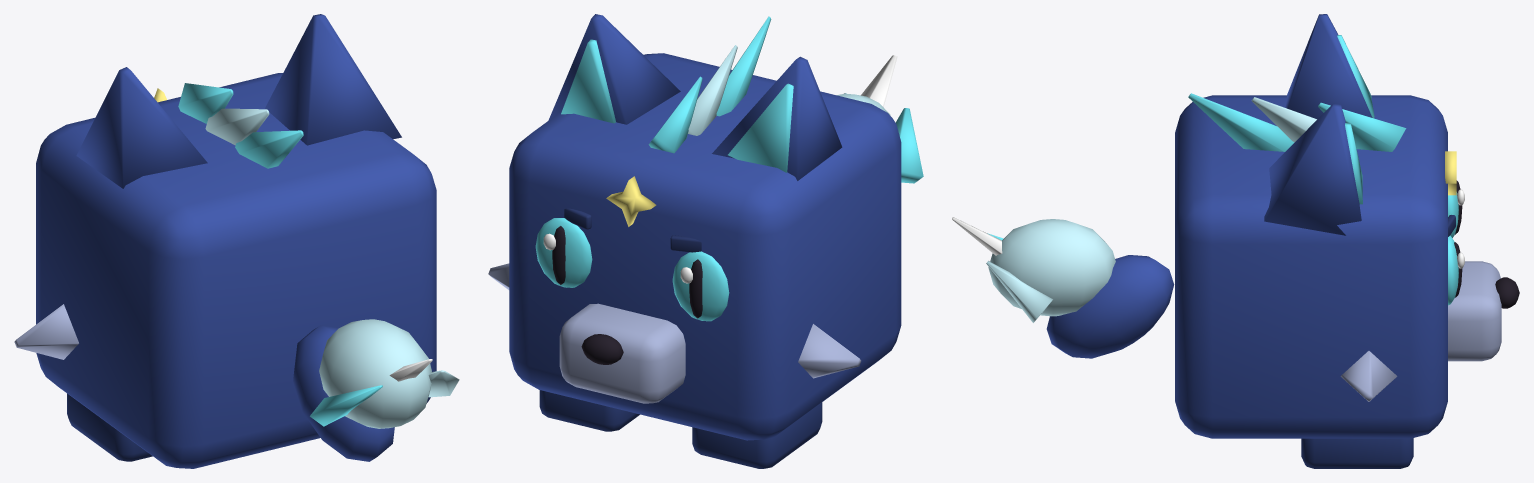
The model's file is pet_cometwolf.fbx.
3 views of the same model, side by side, from view 1: azimuth 30°, elevation 25°; view 2: azimuth 150°, elevation 25°; view 3: azimuth 270°, elevation 25° (orthographic). The views are drawn at different scales.
Parts seen in each view (by area): view 1: pet_cometwolf; view 2: pet_cometwolf; view 3: pet_cometwolf.
Part boxes in pixels (x1,y1,x2,y2): pet_cometwolf: (14,14,459,468); pet_cometwolf: (488,14,923,468); pet_cometwolf: (952,14,1519,468).
Bounding box in the file's own units: 2.8 × 2.75 × 3.95.
1 material, 1 textured.
